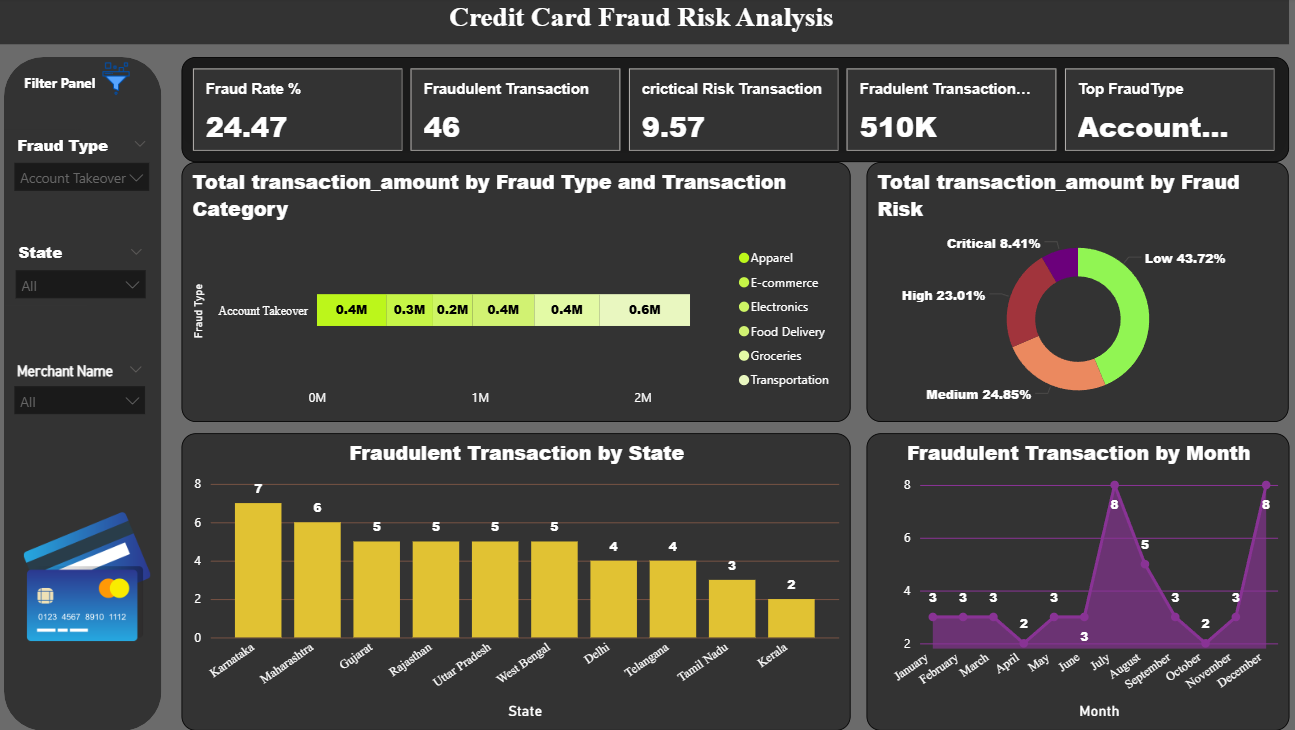

The dashboard page shown, as its layout file describes it:
{"tool":"powerbi","page":{"name":"Page 1","canvas":[1280,720],"ordinal":0},"visuals":[{"type":"textbox","box":[0,0,1271.2,46.6],"z":0},{"type":"shape","box":[9.8,58.9,154.6,661.4],"z":1},{"type":"textbox","box":[24.5,69.9,94.5,40.5],"z":2},{"type":"image","box":[81,58.9,77.3,42.9],"z":3},{"type":"barChart","fields":{"Y":["Credit Card Fraud Risk Analysis.total transaction_amount"],"Category":["Credit Card Fraud Risk Analysis.Fraud Type"],"Series":["Credit Card Fraud Risk Analysis.Transaction Category"]},"box":[184.1,162,656.4,255.2],"z":4},{"type":"donutChart","fields":{"Y":["Credit Card Fraud Risk Analysis.total transaction_amount"],"Category":["Credit Card Fraud Risk Analysis.Fraud Risk"]},"box":[856.4,162,414.7,255.2],"z":5},{"type":"columnChart","fields":{"Category":["Credit Card Fraud Risk Analysis.State"],"Y":["Credit Card Fraud Risk Analysis.Fraudulent Transaction"]},"box":[184.1,428.2,656.4,292],"z":6},{"type":"lineChart","fields":{"Category":["Credit Card Fraud Risk Analysis.Transaction Date.Variation.Date Hierarchy.Month","Credit Card Fraud Risk Analysis.Transaction Date.Variation.Date Hierarchy.Day"],"Y":["Credit Card Fraud Risk Analysis.Fraudulent Transaction"]},"box":[856,428,415,292],"z":7},{"type":"slicer","fields":{"Values":["Credit Card Fraud Risk Analysis.Fraud Type"]},"box":[9.8,130.1,152.1,79.8],"z":8},{"type":"slicer","fields":{"Values":["Credit Card Fraud Risk Analysis.State"]},"box":[11,235.6,147.2,67.5],"z":9},{"type":"slicer","fields":{"Values":["Credit Card Fraud Risk Analysis.Merchant Name"]},"box":[9.8,353.4,148.5,72.4],"z":10},{"type":"image","box":[24.5,446.6,133.7,244.2],"z":11},{"type":"cardVisual","fields":{"Data":["Credit Card Fraud Risk Analysis.Fraud Rate %","Credit Card Fraud Risk Analysis.Fraudulent Transaction","Credit Card Fraud Risk Analysis.crictical Risk Transaction","Credit Card Fraud Risk Analysis.Fradulent Transaction Amount","Credit Card Fraud Risk Analysis.Top FraudType"]},"box":[184.1,58.9,1087.1,103.1],"z":12}]}

Visuals, with their boxes in screenshot pixels (x1, y1, x2, y2), scaled from the page's 1280x720 canvas onto the 1295x730 screenshot:
textbox: [0,0,1286,47]
shape: [10,60,166,729]
textbox: [25,71,120,112]
image: [82,60,160,103]
barChart - Credit Card Fraud Risk Analysis.total transaction_amount x Credit Card Fraud Risk Analysis.Fraud Type: [186,164,850,423]
donutChart - Credit Card Fraud Risk Analysis.total transaction_amount x Credit Card Fraud Risk Analysis.Fraud Risk: [866,164,1286,423]
columnChart - Credit Card Fraud Risk Analysis.State x Credit Card Fraud Risk Analysis.Fraudulent Transaction: [186,434,850,729]
lineChart - Credit Card Fraud Risk Analysis.Transaction Date.Variation.Date Hierarchy.Month x Credit Card Fraud Risk Analysis.Transaction Date.Variation.Date Hierarchy.Day: [866,434,1286,729]
slicer - Credit Card Fraud Risk Analysis.Fraud Type: [10,132,164,213]
slicer - Credit Card Fraud Risk Analysis.State: [11,239,160,307]
slicer - Credit Card Fraud Risk Analysis.Merchant Name: [10,358,160,432]
image: [25,453,160,700]
cardVisual - Credit Card Fraud Risk Analysis.Fraud Rate % x Credit Card Fraud Risk Analysis.Fraudulent Transaction: [186,60,1286,164]
